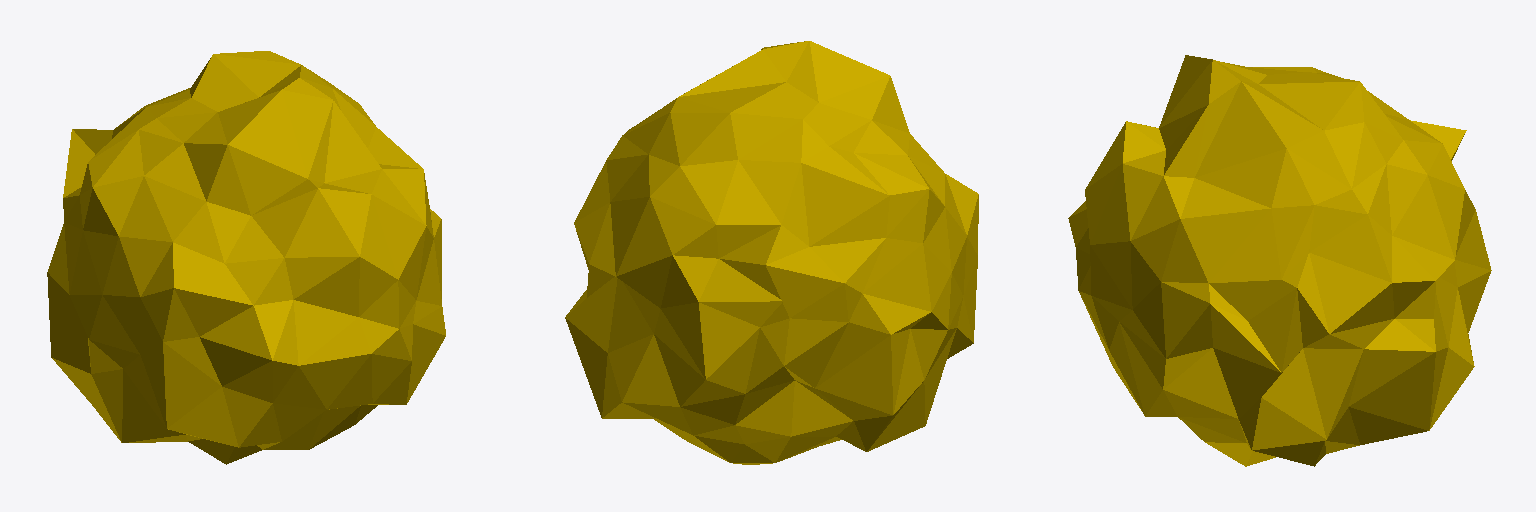
The model's file is fire_000017.obj.
The picture shows the model from 3 angles: view 1: azimuth 30°, elevation 25°; view 2: azimuth 150°, elevation 25°; view 3: azimuth 270°, elevation 25°; orthographic projection.
Visible parts, largest first — view 1: Icosphere; view 2: Icosphere; view 3: Icosphere.
Part boxes in pixels (x1,y1,x2,y2): Icosphere: (47,51,445,464); Icosphere: (565,41,978,464); Icosphere: (1068,55,1491,466).
Bounding box in the file's own units: 1.53 × 1.61 × 1.6.